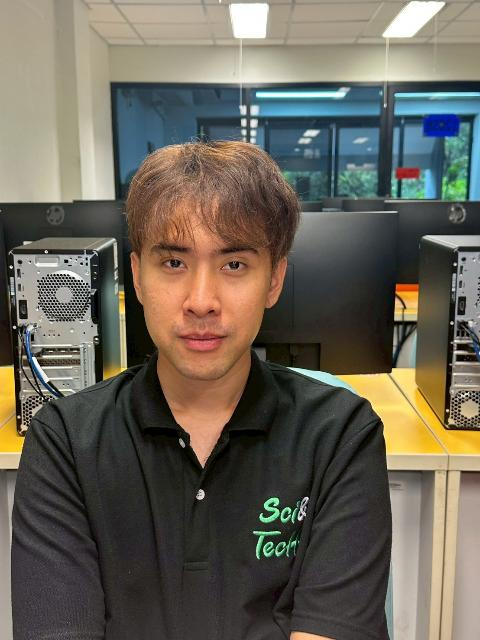fokus: (127, 140, 288, 382)
